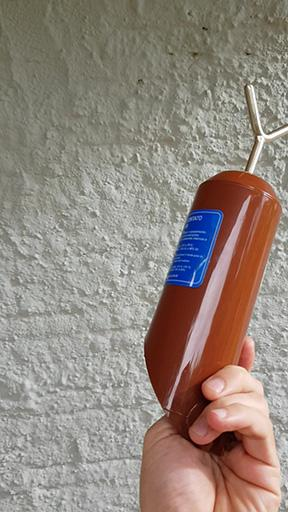Detector_Tensao_Contato: (142, 84, 288, 442)
